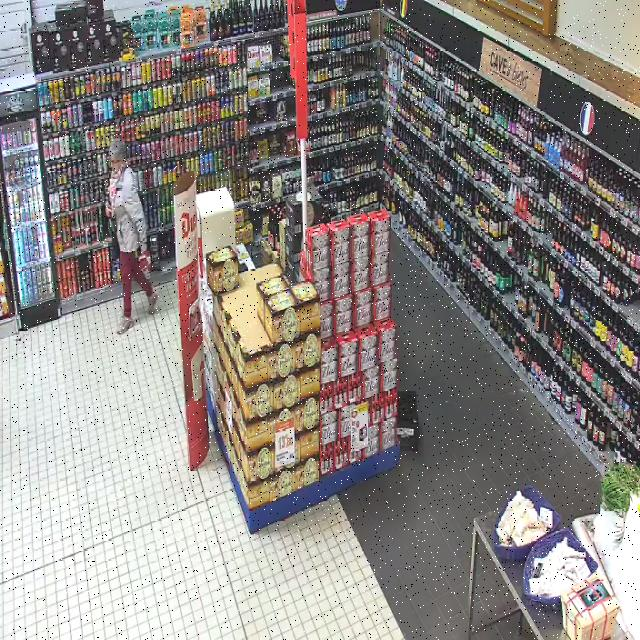person: (105, 138, 156, 333)
